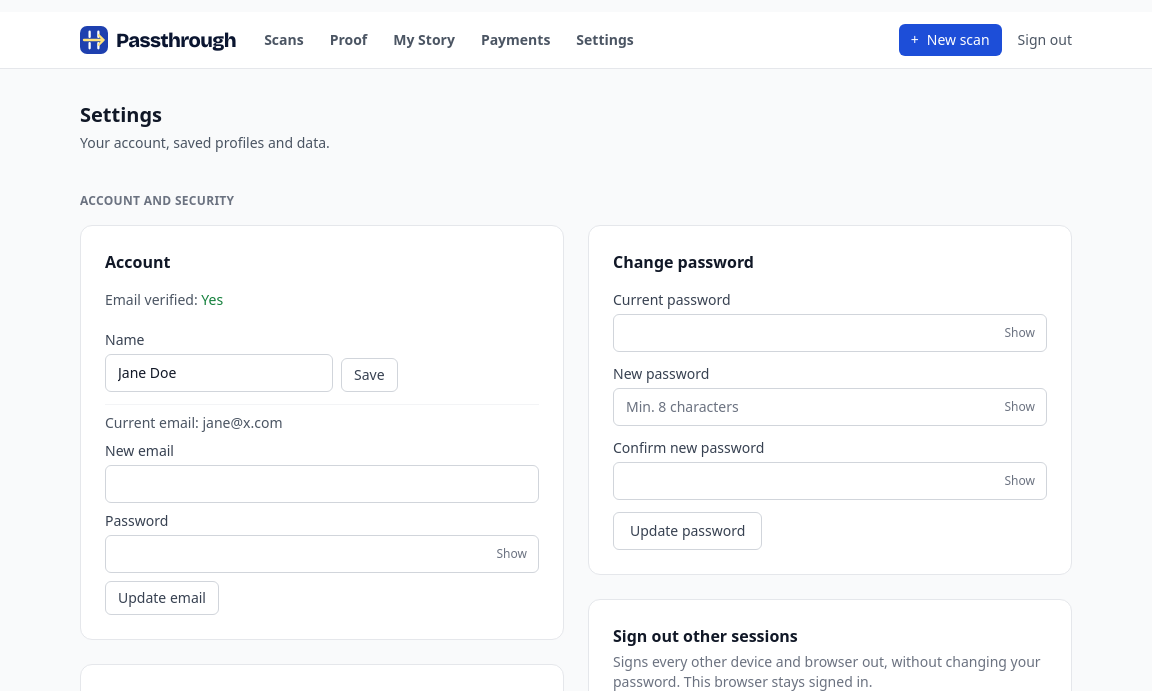
Test: Settings — name › a rejected save shows the reason and leaves the cached user alone
This screenshot has width=1152, height=691.
Type "x" into the field labelled "Name" at (219, 373), box 105,354 -> 333,392
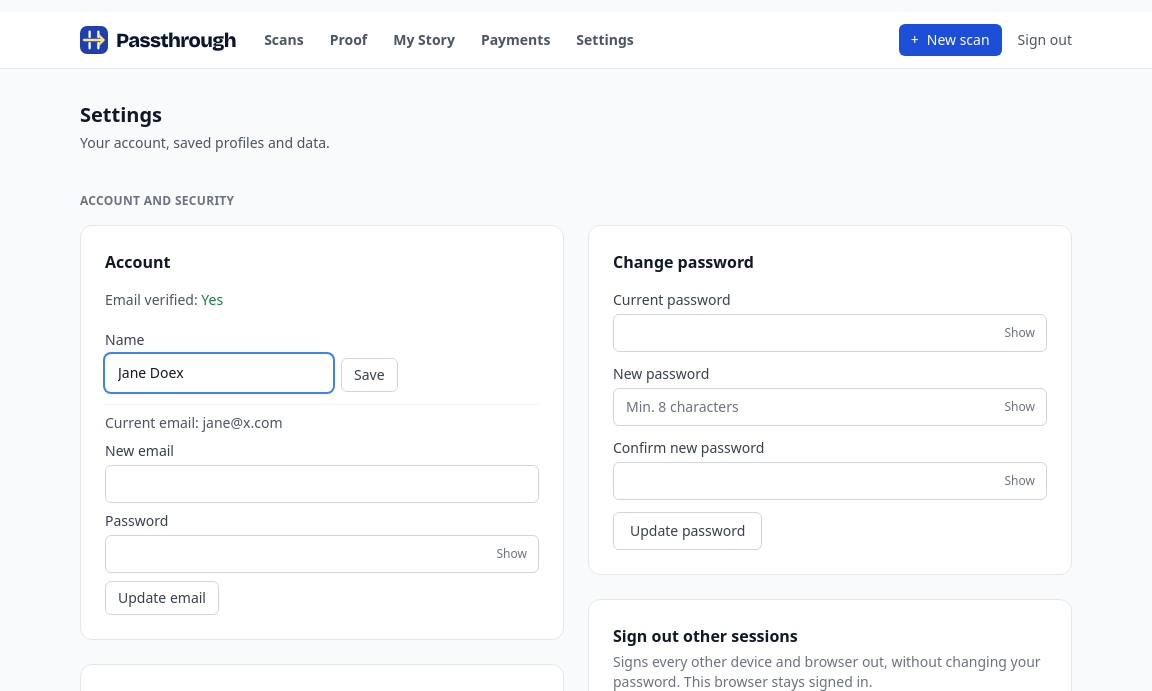
Click the button "Save" at (369, 375), box 341,358 -> 398,392
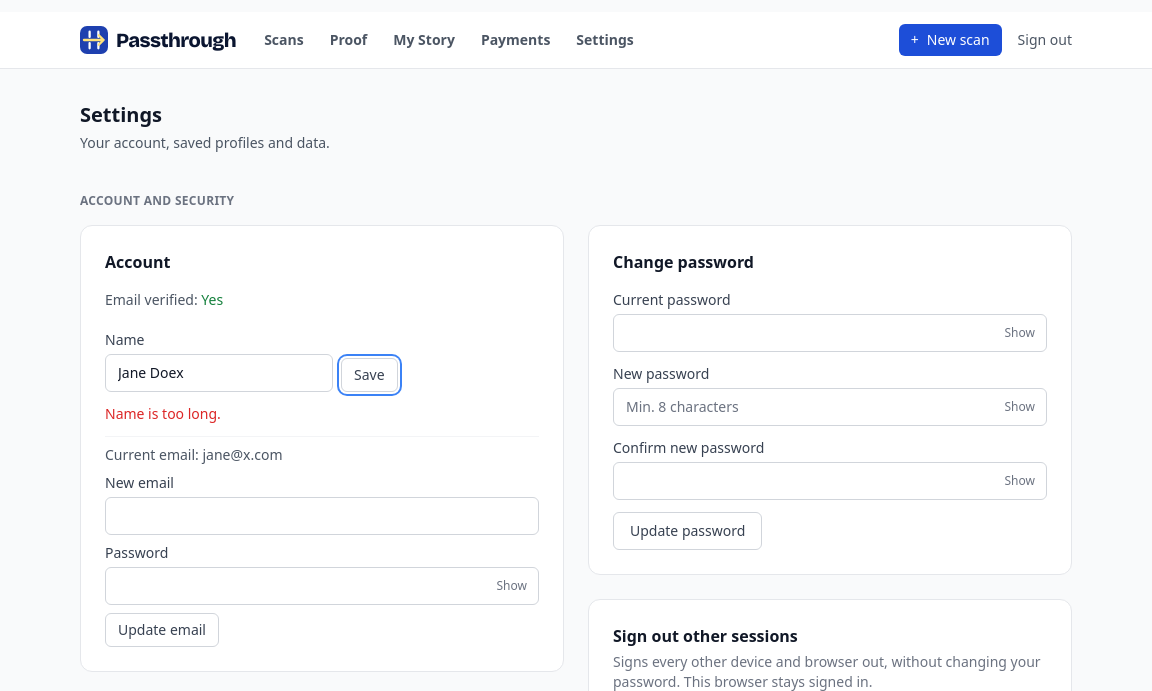
expect the text "Name is too long." is shown: met, box 105,404 -> 221,423
